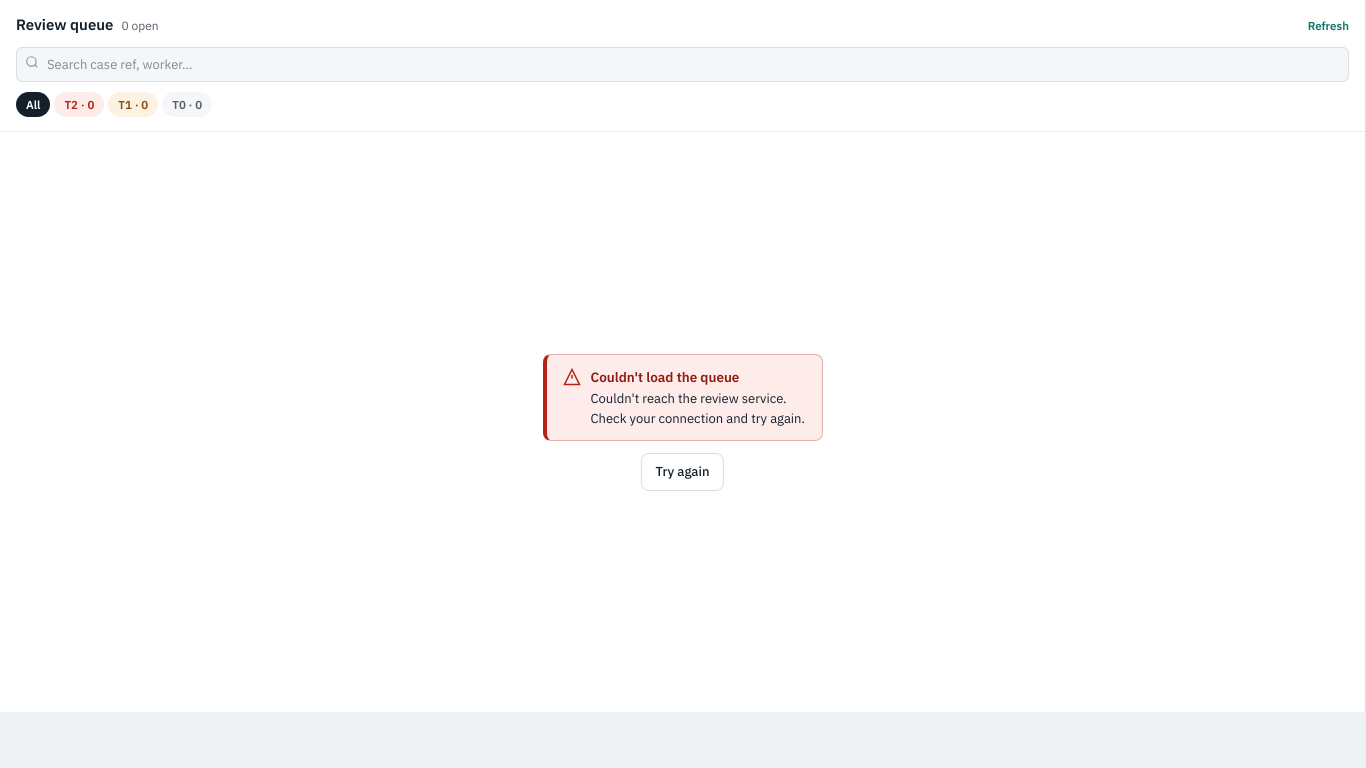
it: ReviewQueue — API integration › shows an error state when the request fails, and retries on click
expect the text "Couldn't load the queue" is shown: met, box [590,368,739,386]
expect the text "Couldn't reach the review service" is shown: met, box [590,390,805,426]
Click the button "Try again": (682, 472) [640,453,724,490]
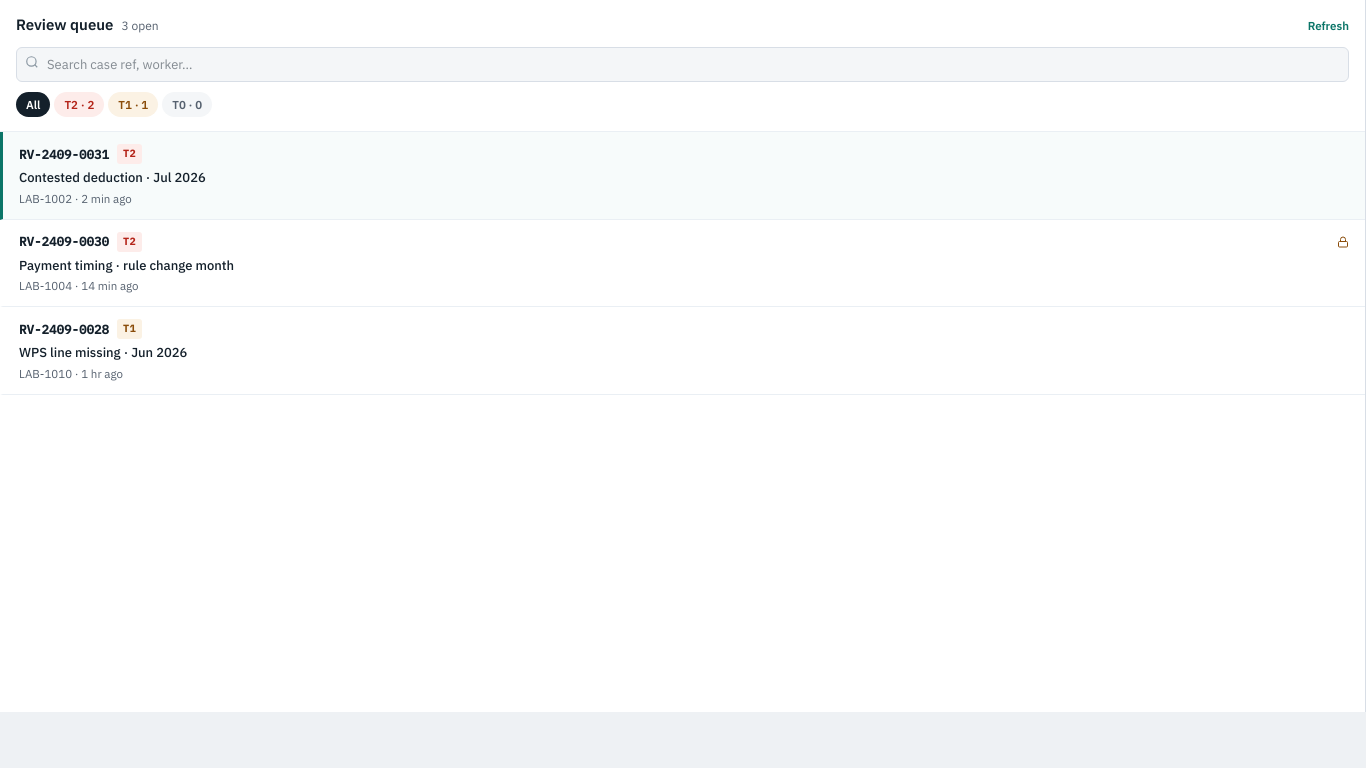
expect the number of list items is 3: met, box [0,132,1365,220]; [0,220,1365,307]; [0,307,1365,395]
